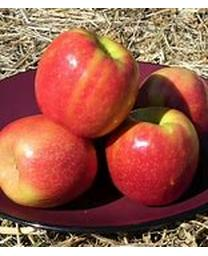apple: (35, 29, 139, 138), (0, 114, 98, 208), (105, 107, 198, 205), (134, 65, 207, 135)
